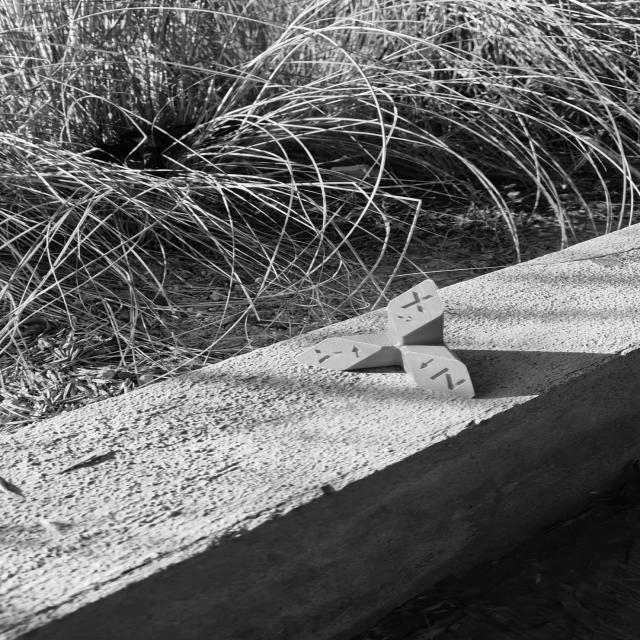eje: (292, 277, 479, 400)
